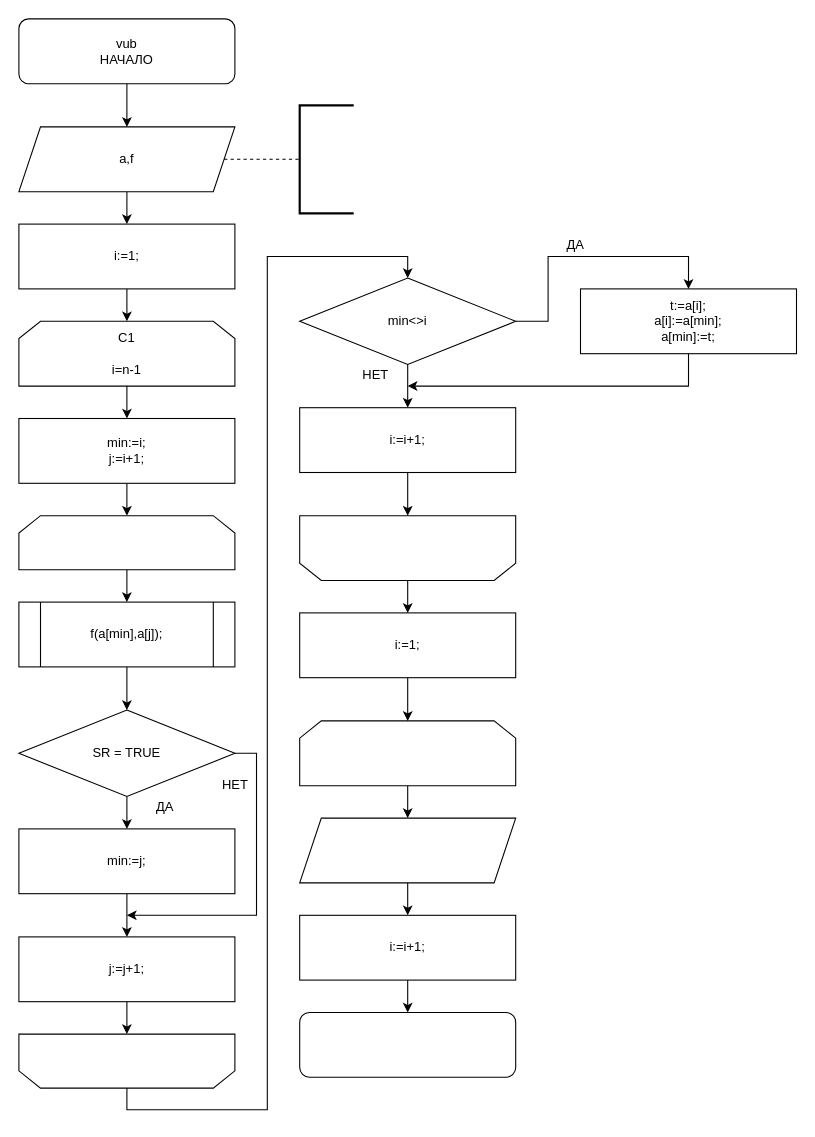
This 815x1137 diagram has some shape labels left out. Here are the shapes that lost their labels. From the top down, the centre of each, then its label:
point 326,159: a - МАССИВ ЧИСЕЛ ПОЗНАЧЕНИЮ f - ФУЕКЦИЯ ПО АДРЕСУ
point 126,542: C2 j=n
point 407,547: C1
point 407,753: C3 i=n
point 407,850: write(f2, a[i], ' ');
point 126,1060: C2
point 407,1044: КОНЕЦ vub
